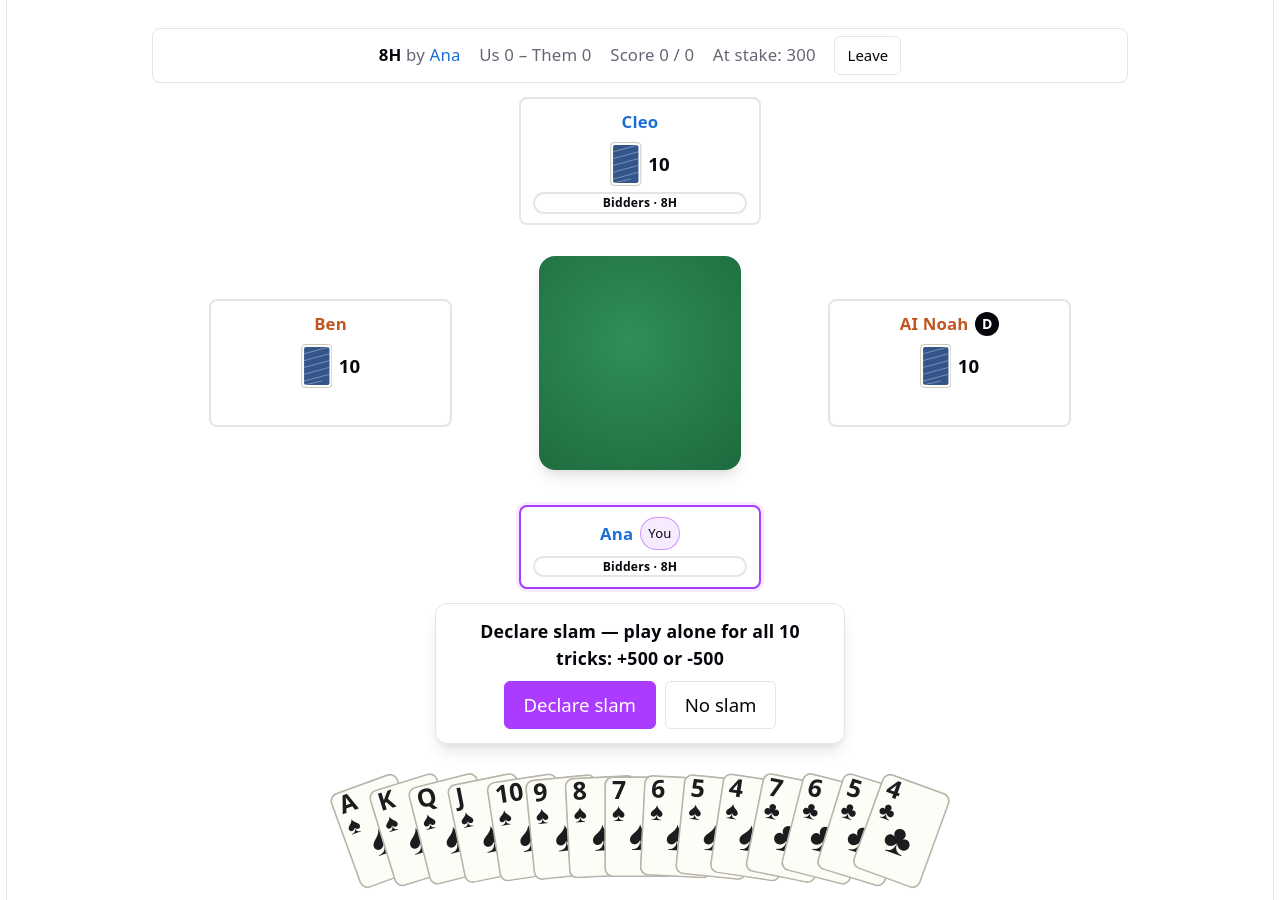
it: SlamPanel › declines with an explicit declineSlam and proceeds to the normal 15-card discard (AC-1)
Click the button with test id "slam-decline" at coordinates (721, 705), box [665,681,776,729]
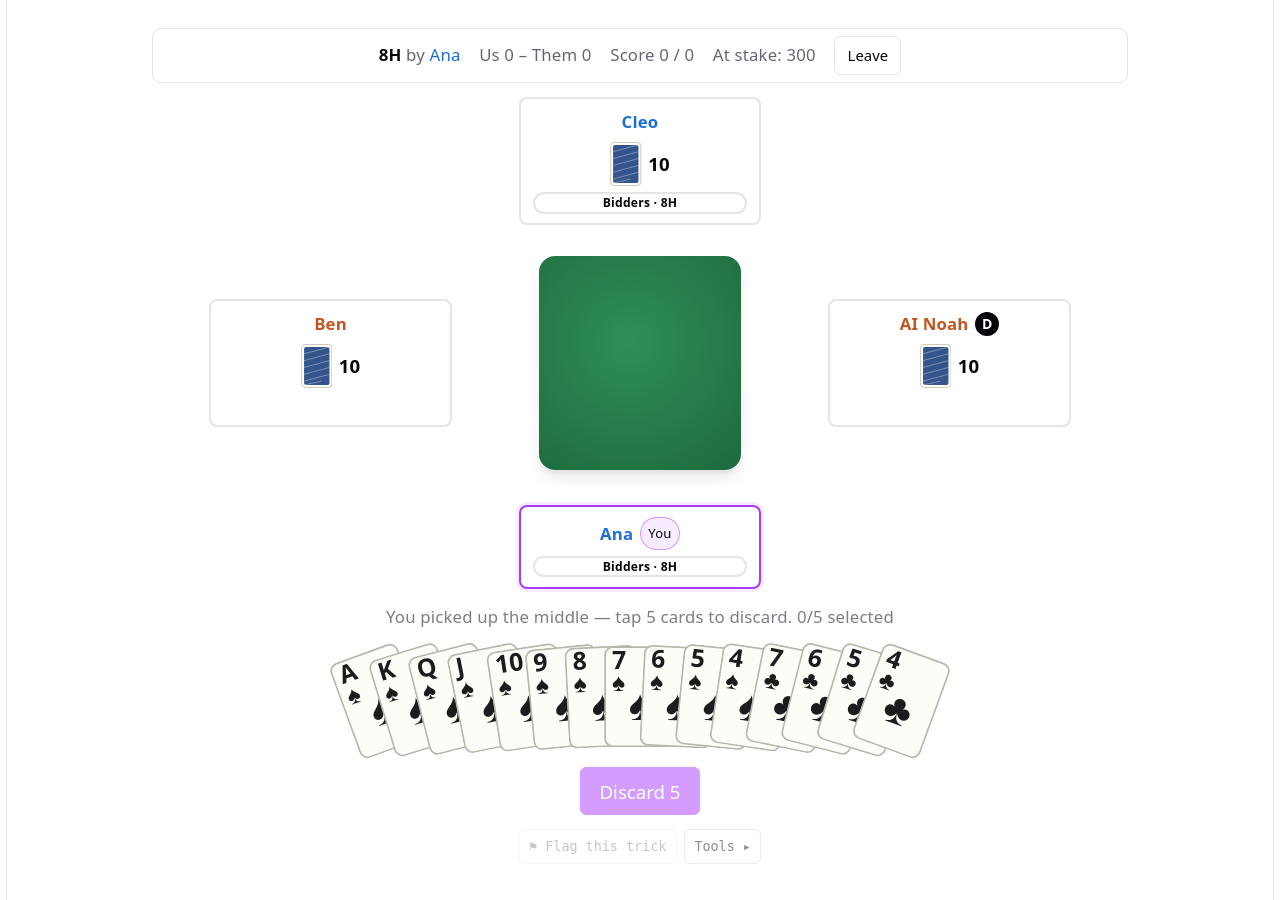
Now the dialog with test id "slam-panel" is gone
Now the message with test id "exchange-count" shows "tap 5 cards to discard", box [386,603,894,630]
